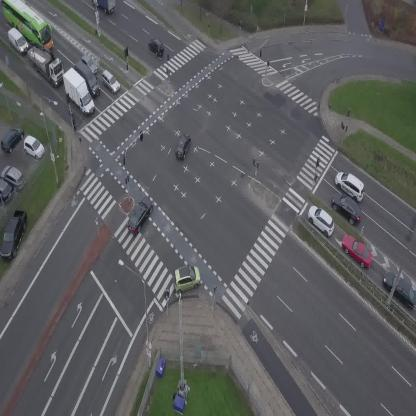bicycle: (71, 115, 79, 132)
car: (337, 229, 379, 273), (326, 188, 368, 228), (122, 193, 158, 236), (330, 167, 371, 203), (303, 202, 341, 239), (168, 261, 205, 296), (171, 131, 195, 162), (97, 68, 124, 95), (145, 36, 167, 58), (79, 52, 101, 74)
lorry: (17, 34, 73, 88), (57, 64, 97, 119), (72, 58, 104, 99), (3, 26, 33, 56), (92, 0, 115, 13)
